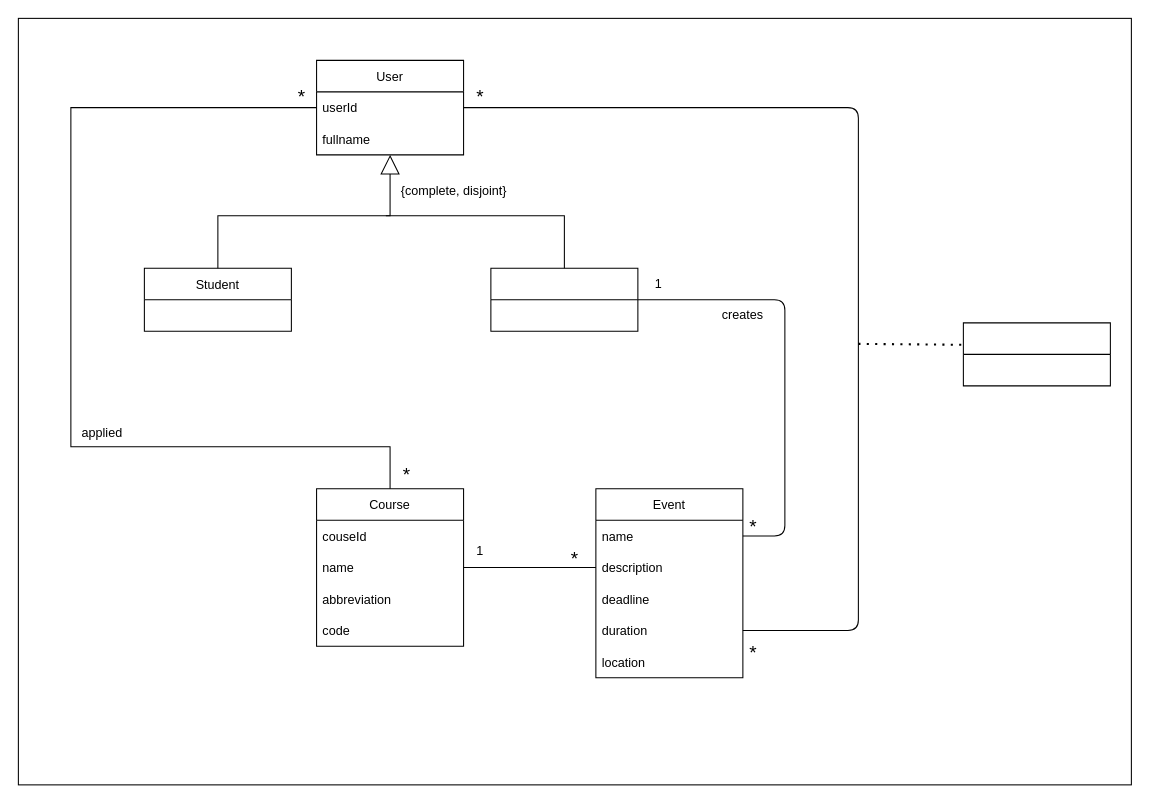
The diagram is 1150 pixels wide and 803 high, and some of its shapes have lost their labels. Here are the shapes that lost their labels. From the top down, the centre of each, then its label:
pixel 564 299: Teacher
pixel 1036 354: Saved Events
